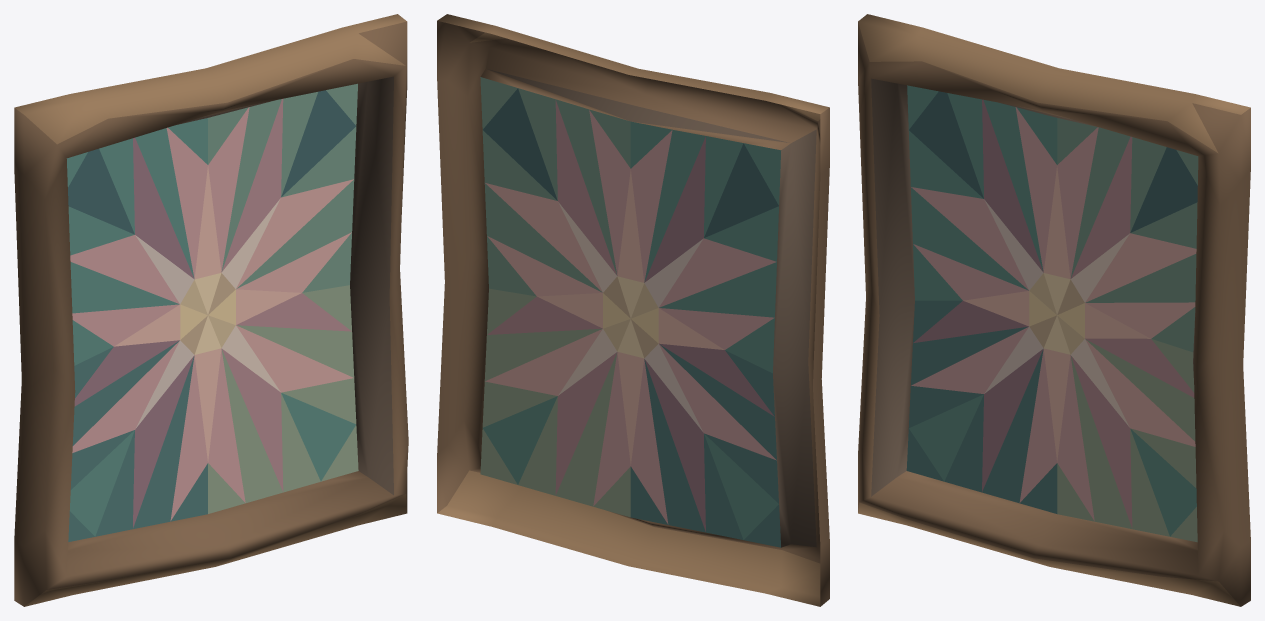
File: picture_frame_small_flower.fbx
3 views of the same model, side by side, from view 1: azimuth 30°, elevation 25°; view 2: azimuth 150°, elevation 25°; view 3: azimuth 330°, elevation 25° (orthographic).
Visible parts, largest first — view 1: picture_frame; view 2: picture_frame; view 3: picture_frame.
Boxes of the visible parts, <box> form: picture_frame: <box>14,14,408,606</box>; picture_frame: <box>437,14,829,606</box>; picture_frame: <box>858,14,1250,606</box>.
Bounding box in the file's own units: 66.98 × 83.31 × 7.75.
